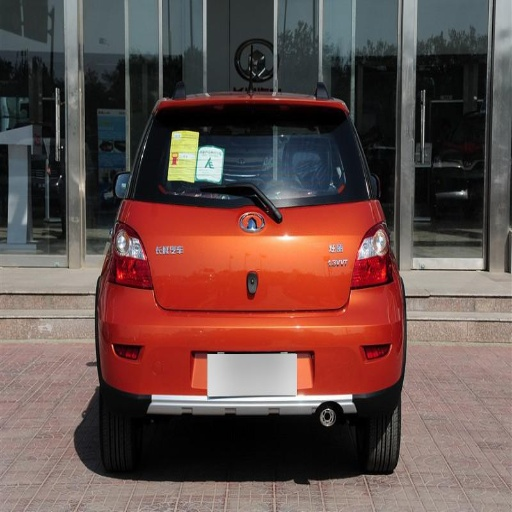back_bumper: (102, 283, 401, 415)
trunk: (129, 201, 378, 349)
